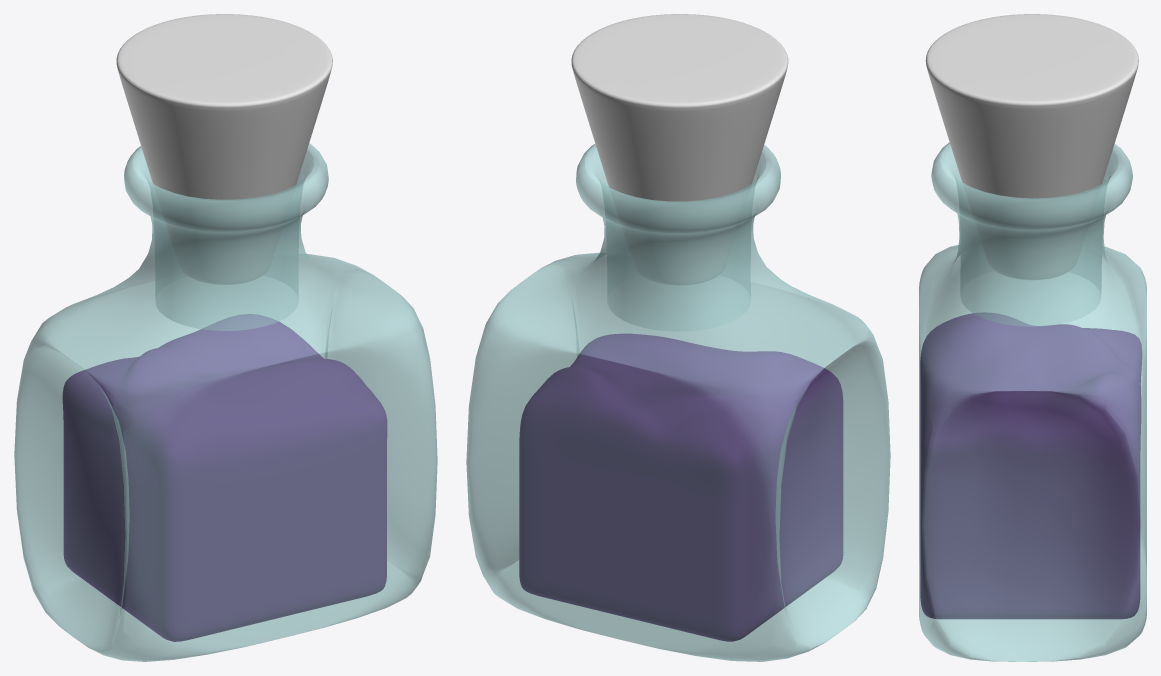
Rendered from potiunecub.fbx.
3 renders of one model, left to right at view 1: azimuth 30°, elevation 25°; view 2: azimuth 150°, elevation 25°; view 3: azimuth 270°, elevation 25°, orthographic.
Parts seen in each view (by area): view 1: Glass, Cube.001, Lid; view 2: Glass, Cube.001, Lid; view 3: Glass, Cube.001, Lid.
Boxes of the visible parts, x1=… form: Glass: x1=14, y1=143, x2=437, y2=661; Cube.001: x1=62, y1=314, x2=387, y2=641; Lid: x1=116, y1=14, x2=332, y2=284; Glass: x1=466, y1=144, x2=890, y2=661; Cube.001: x1=519, y1=333, x2=843, y2=641; Lid: x1=571, y1=14, x2=788, y2=285; Glass: x1=919, y1=142, x2=1146, y2=661; Cube.001: x1=920, y1=312, x2=1142, y2=619; Lid: x1=925, y1=14, x2=1138, y2=279.
Bounding box in the file's own units: 632 × 1034 × 404.
